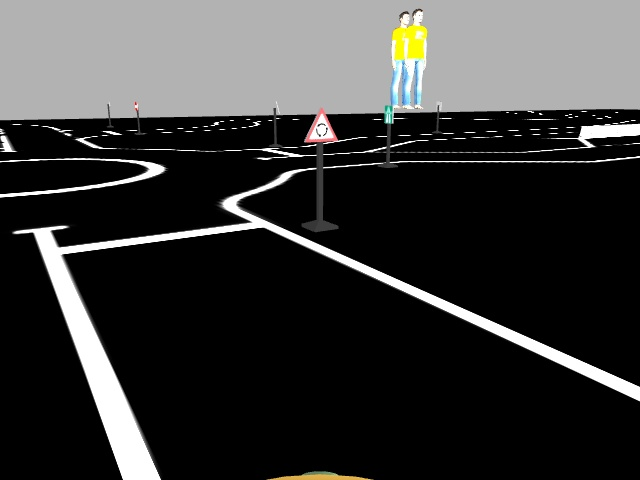HighwayEntrance: (380, 103, 396, 124)
Roundabout: (301, 107, 338, 144)
